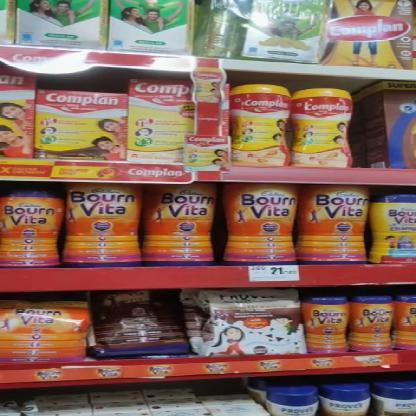Complan Kesar Badam: (128, 81, 194, 161)
Complan Royal Chocolate: (30, 91, 132, 160), (0, 73, 33, 160)
